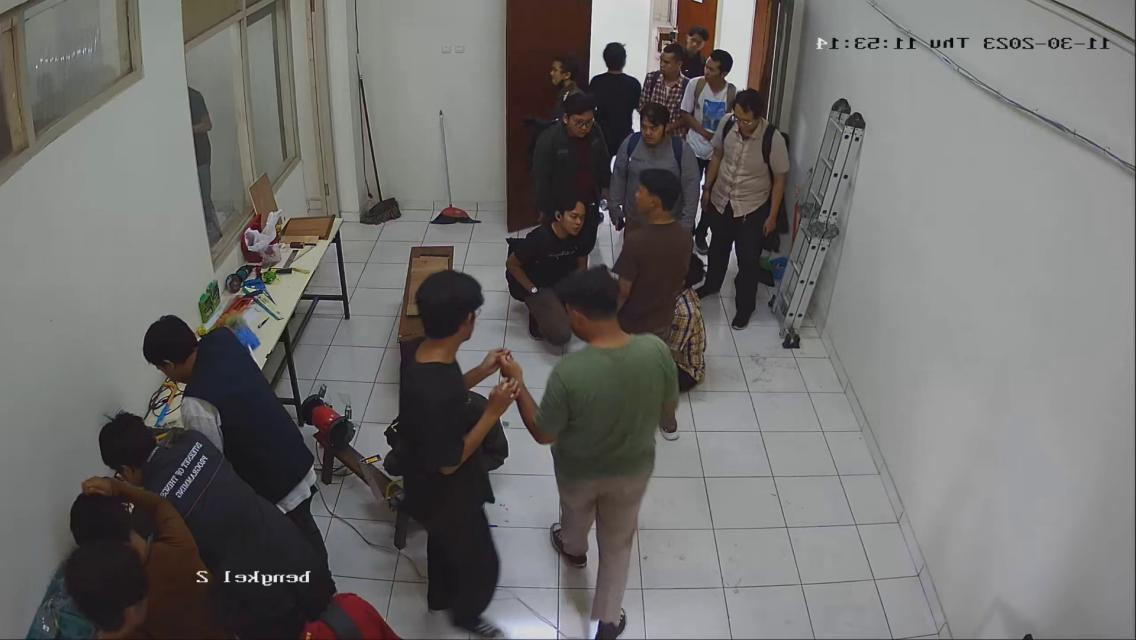Crowd: (492, 16, 815, 380)
Person-Crowd: (520, 252, 699, 640), (362, 241, 535, 640), (680, 72, 816, 335)
